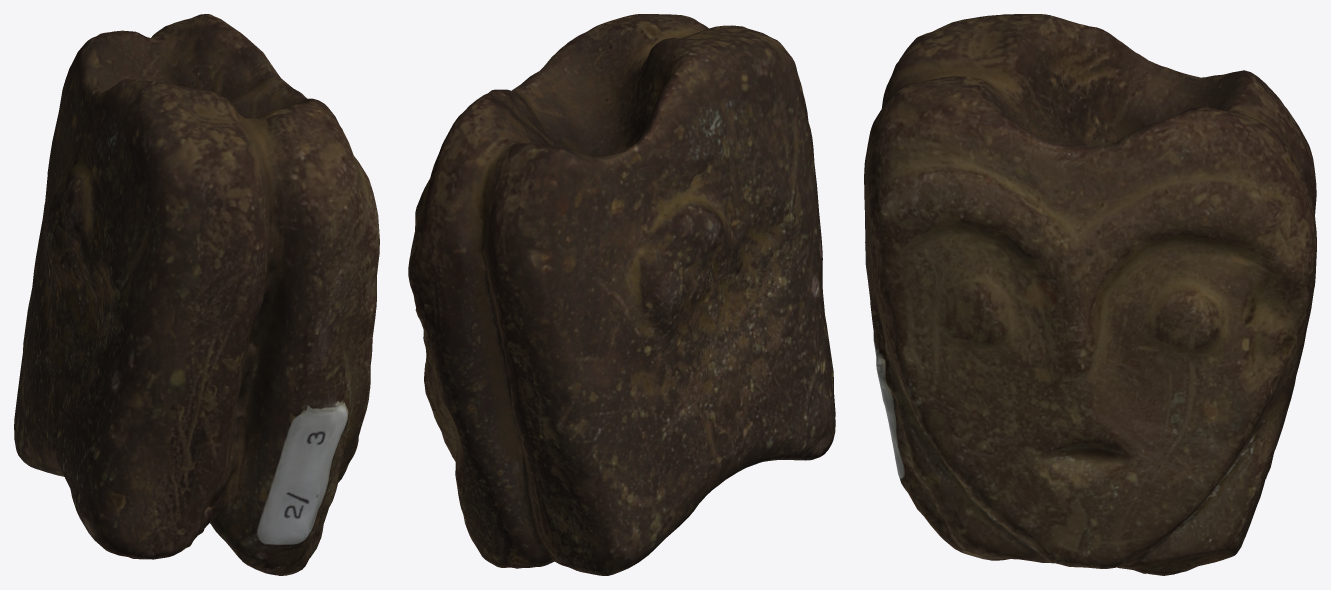
File: medallon unity.fbx
The picture shows the model from 3 angles, left to right: view 1: azimuth 30°, elevation 25°; view 2: azimuth 150°, elevation 25°; view 3: azimuth 270°, elevation 25°; orthographic projection. The views are drawn at different scales.
Parts seen in each view (by area): view 1: default; view 2: default; view 3: default.
Boxes of the visible parts, <box> form: default: <box>14,14,379,575</box>; default: <box>408,14,835,575</box>; default: <box>864,14,1316,575</box>.
Bounding box in the file's own units: 0.5045 × 0.8295 × 0.6817.
Materials: 1 (1 with a texture image).
